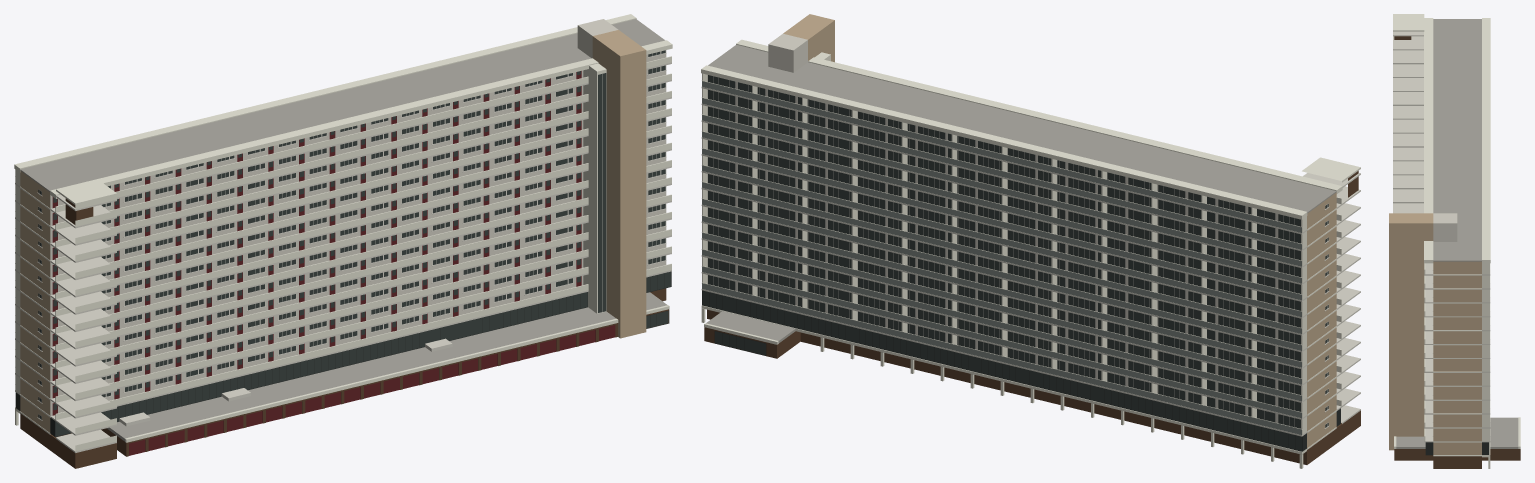
File: nw-gallery-slab-15st-hogguer__concrete-buff__15__flat__long__solid.glb
3 renders of one model, left to right at view 1: azimuth 30°, elevation 25°; view 2: azimuth 150°, elevation 25°; view 3: azimuth 270°, elevation 25°, orthographic. The views are drawn at different scales.
Parts seen in each view (by area): view 1: nw-gallery-slab-15st-hogguer__concrete-buff__15__flat__long_; view 2: nw-gallery-slab-15st-hogguer__concrete-buff__15__flat__long_; view 3: nw-gallery-slab-15st-hogguer__concrete-buff__15__flat__long_.
Boxes of the visible parts, box(x1,y1,x2,y2) form: nw-gallery-slab-15st-hogguer__concrete-buff__15__flat__long_: box(14, 14, 672, 468); nw-gallery-slab-15st-hogguer__concrete-buff__15__flat__long_: box(701, 14, 1360, 468); nw-gallery-slab-15st-hogguer__concrete-buff__15__flat__long_: box(1389, 14, 1520, 468).
Bounding box in the file's own units: 110 × 47.94 × 25.28.
